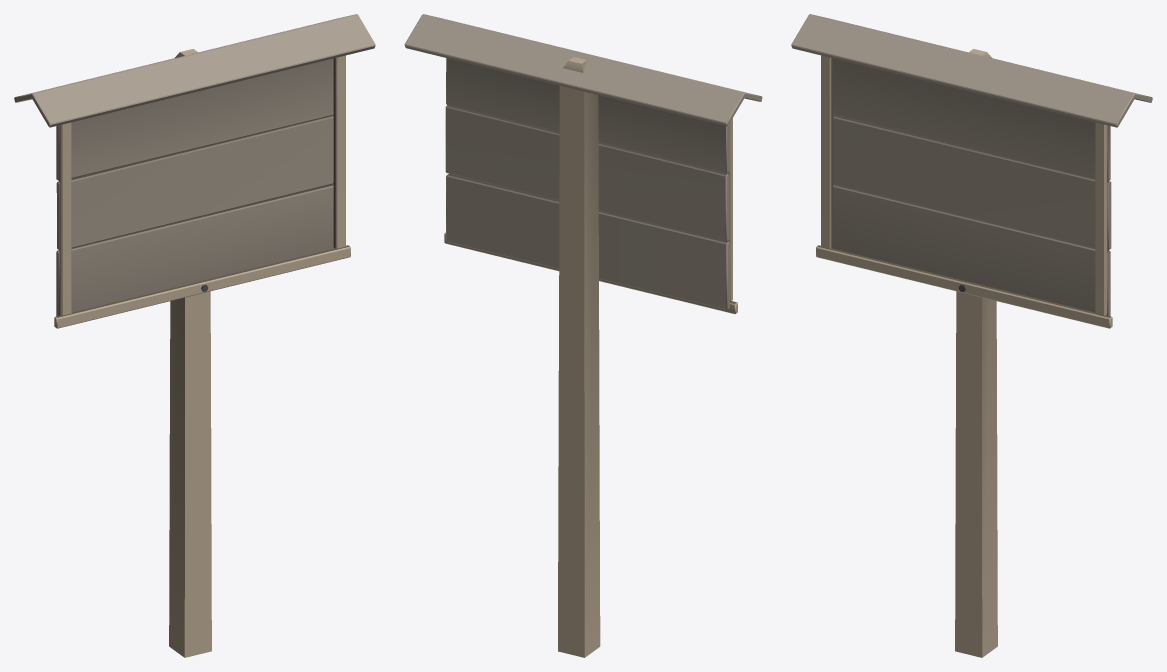
The model's file is signpost.glb.
3 views of the same model, side by side, from view 1: azimuth 30°, elevation 25°; view 2: azimuth 150°, elevation 25°; view 3: azimuth 330°, elevation 25° (orthographic).
Parts seen in each view (by area): view 1: static; view 2: static; view 3: static.
Boxes of the visible parts, bbox=[...] form: static: bbox=[14, 14, 375, 657]; static: bbox=[404, 14, 762, 657]; static: bbox=[791, 14, 1152, 657].
Bounding box in the file's own units: 1.26 × 2.21 × 0.245.
